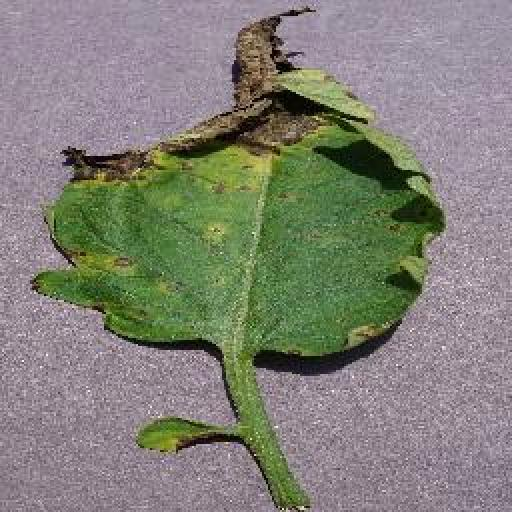disease_tomato: (31, 6, 447, 358)
